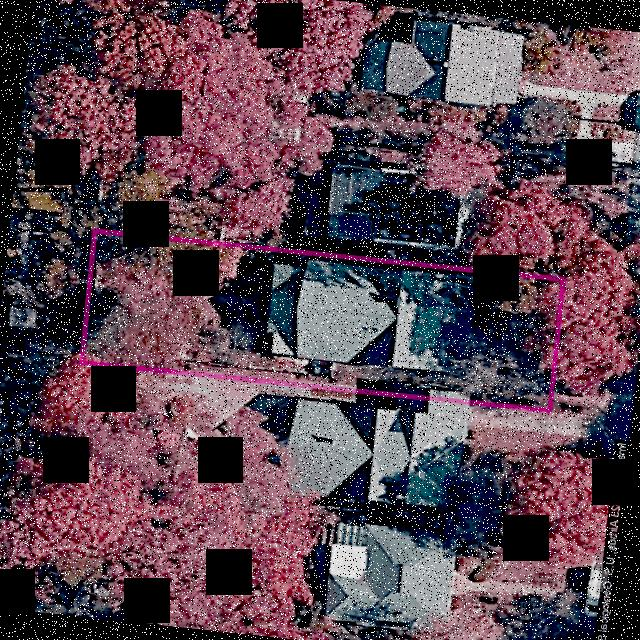House: (266, 259, 480, 374)
